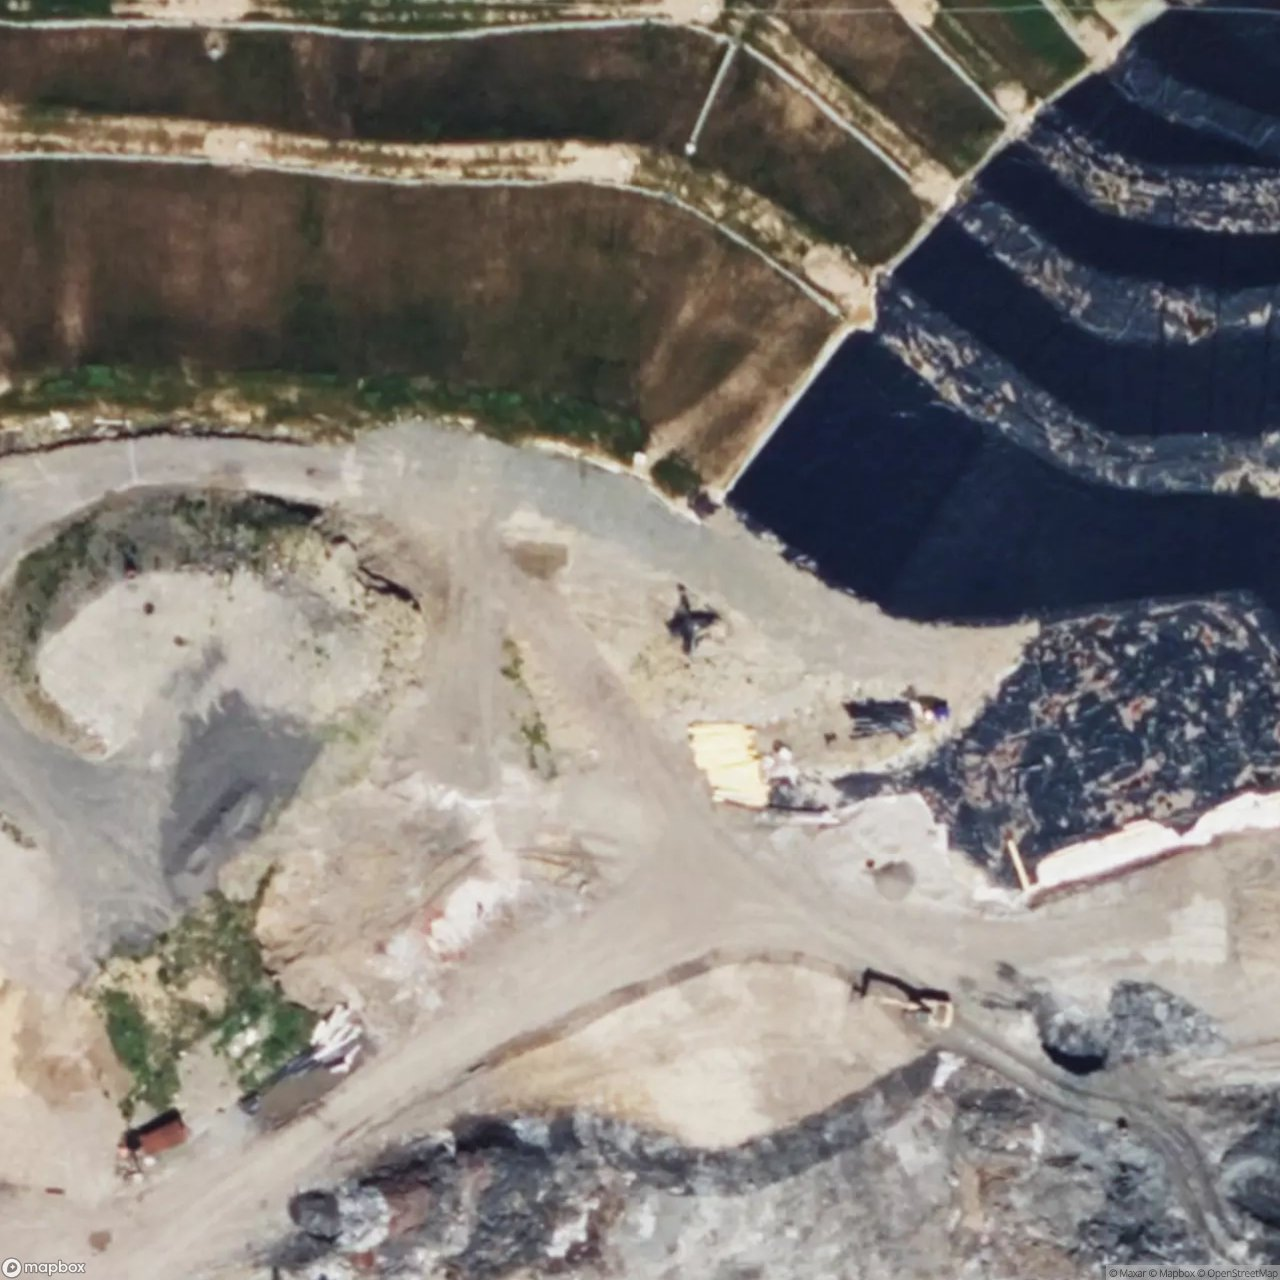dump_site: (695, 1098, 1280, 1280)
